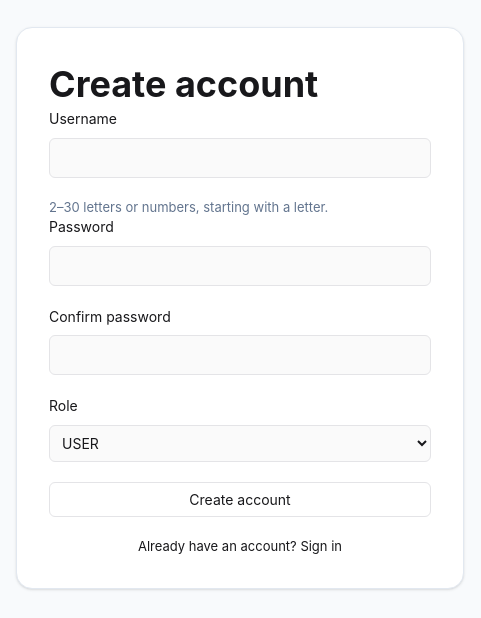
Test case: shows API errors and lets the user retry
In the field labelled "Username": (240, 158) top-left (49, 138), bottom-right (431, 178), type "demoUser"
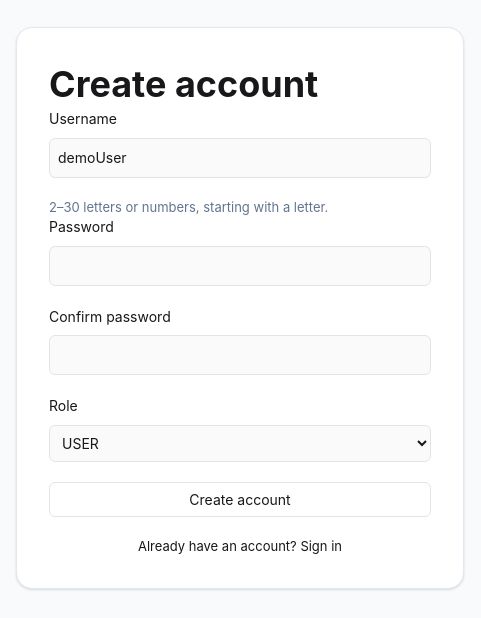
In the password field labelled "Password": (240, 266) top-left (49, 246), bottom-right (431, 286), type "Password123"
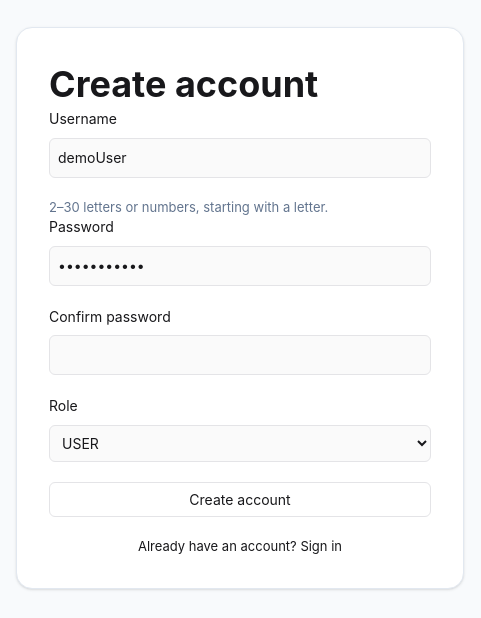
In the password field labelled "Confirm password": (240, 355) top-left (49, 335), bottom-right (431, 375), type "Password123"
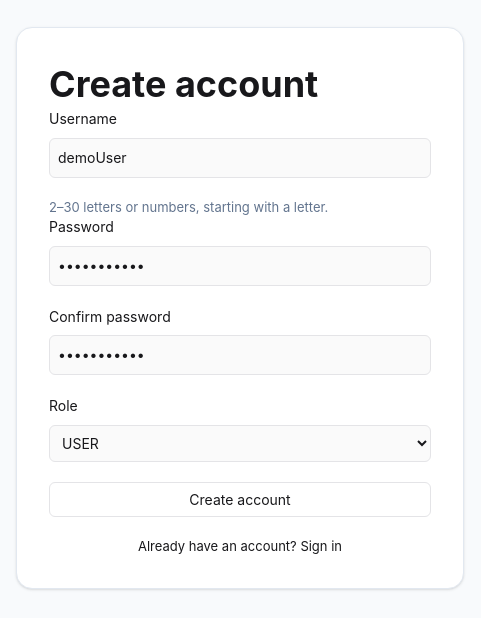
Click the button "Create account": (240, 499) top-left (49, 482), bottom-right (431, 517)
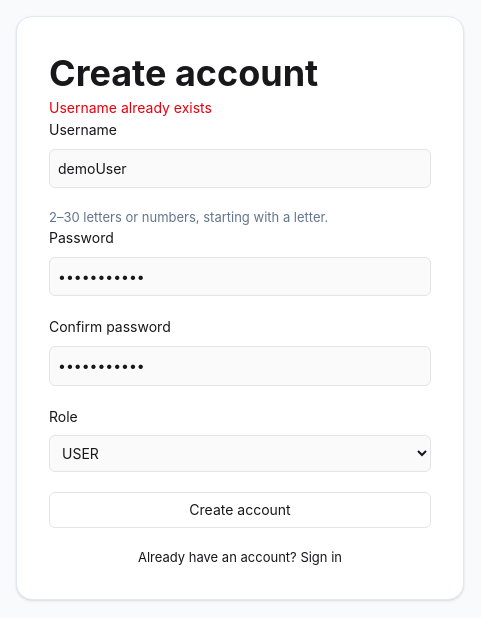
Expected: the button "Create account" is enabled, top-left (49, 492), bottom-right (431, 528)
Result: the message reads "Username already exists" at top-left (49, 99), bottom-right (212, 116)
